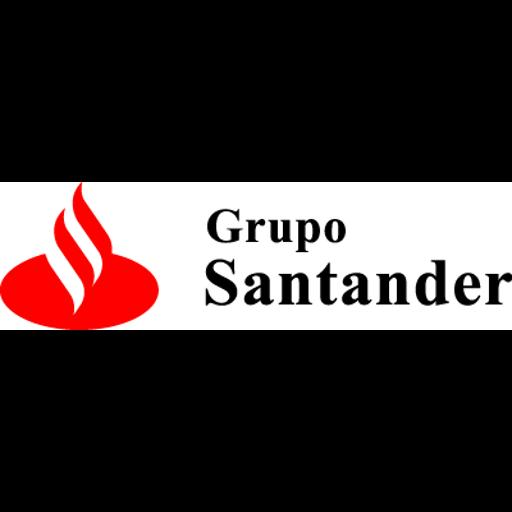Grupo Santander: (0, 182, 512, 330)
